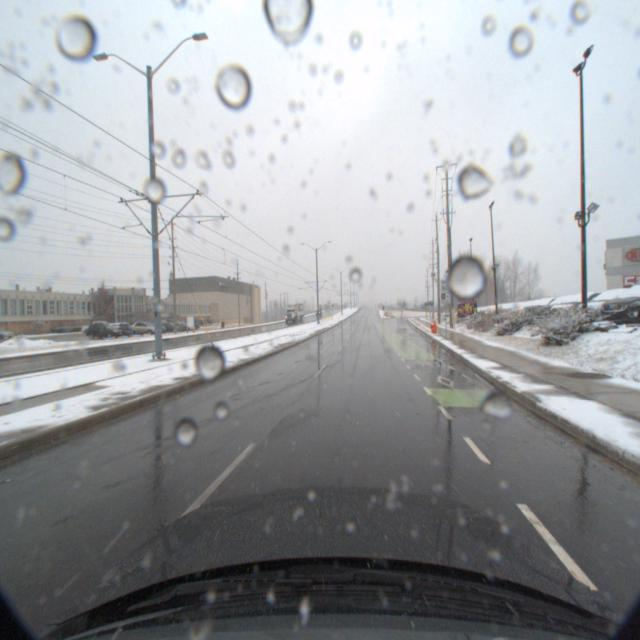Car: (539, 289, 623, 323), (525, 291, 599, 322), (510, 294, 576, 322), (122, 320, 160, 336)
Truck: (281, 302, 303, 321)
